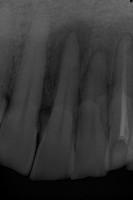Dental Caries: (42, 14, 133, 107)
